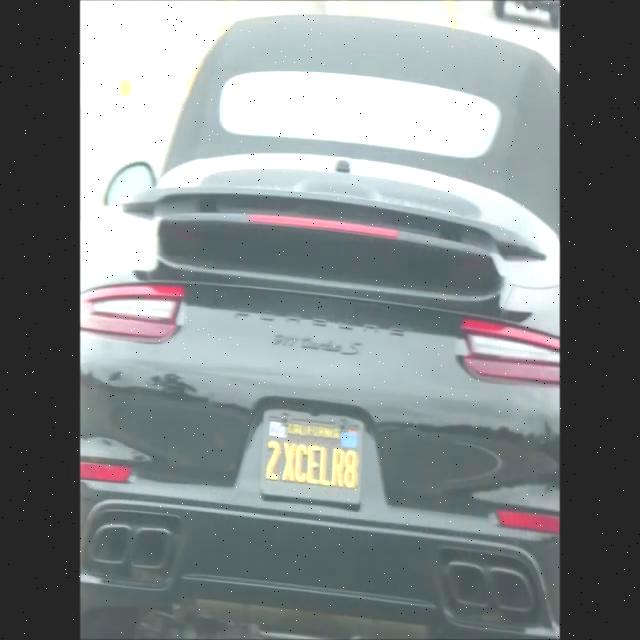licenseplate: (262, 412, 364, 496)
